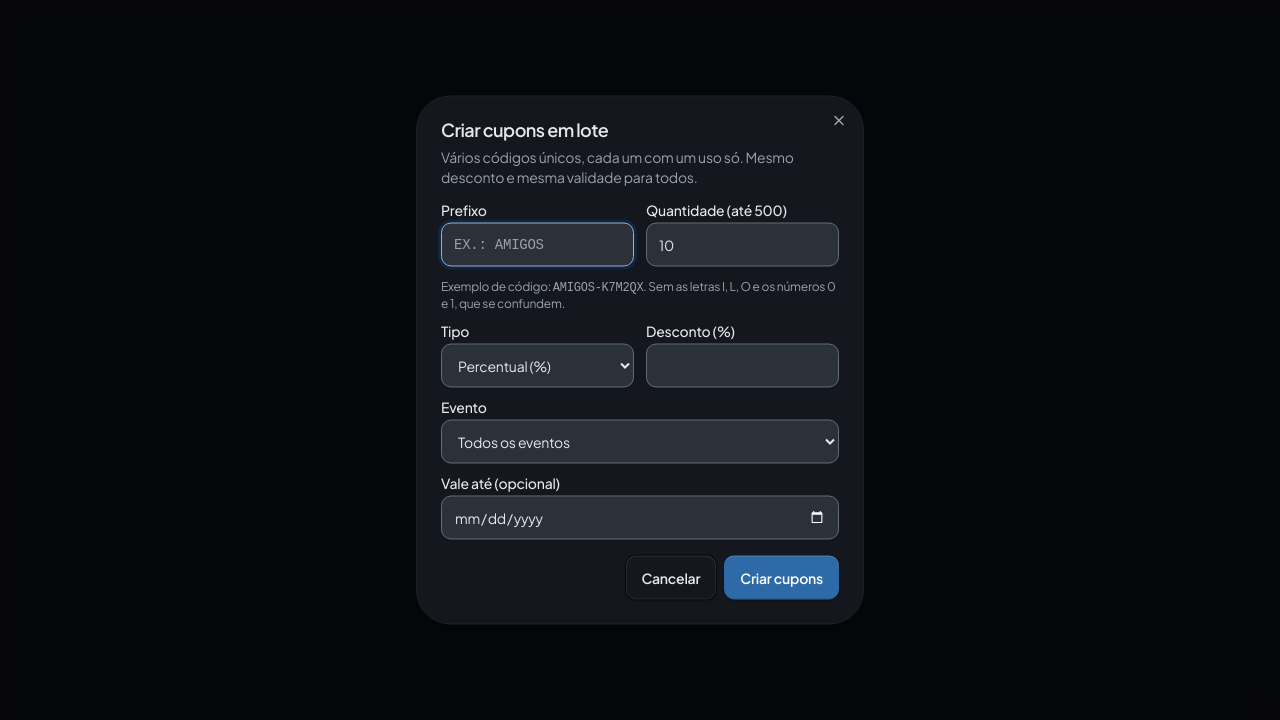
Test case: cupons em lote e CSV (tela) › evento que não é da lista do produtor vai como "todos" (null)
Type "A" into the field labelled "Prefixo" at point(538, 244), box [441,222,634,266]
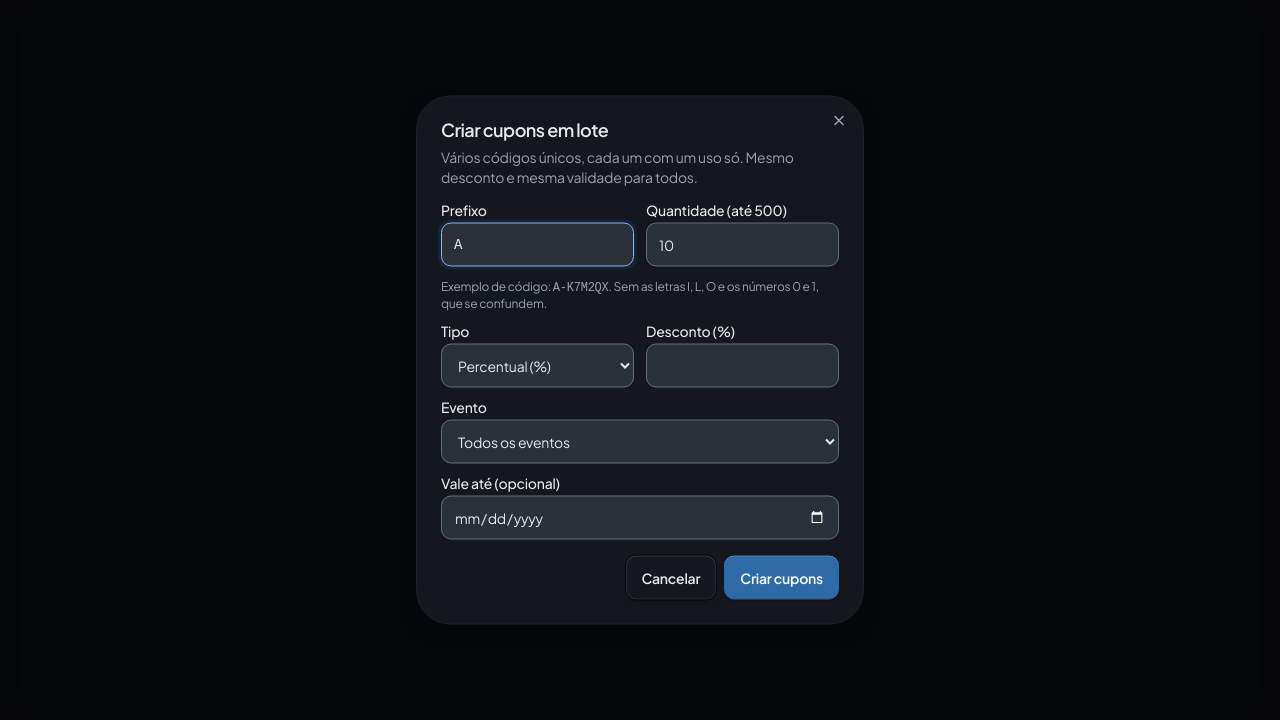
Type "5" into the field labelled "Desconto (%)" at point(742, 366), box [646,344,839,388]
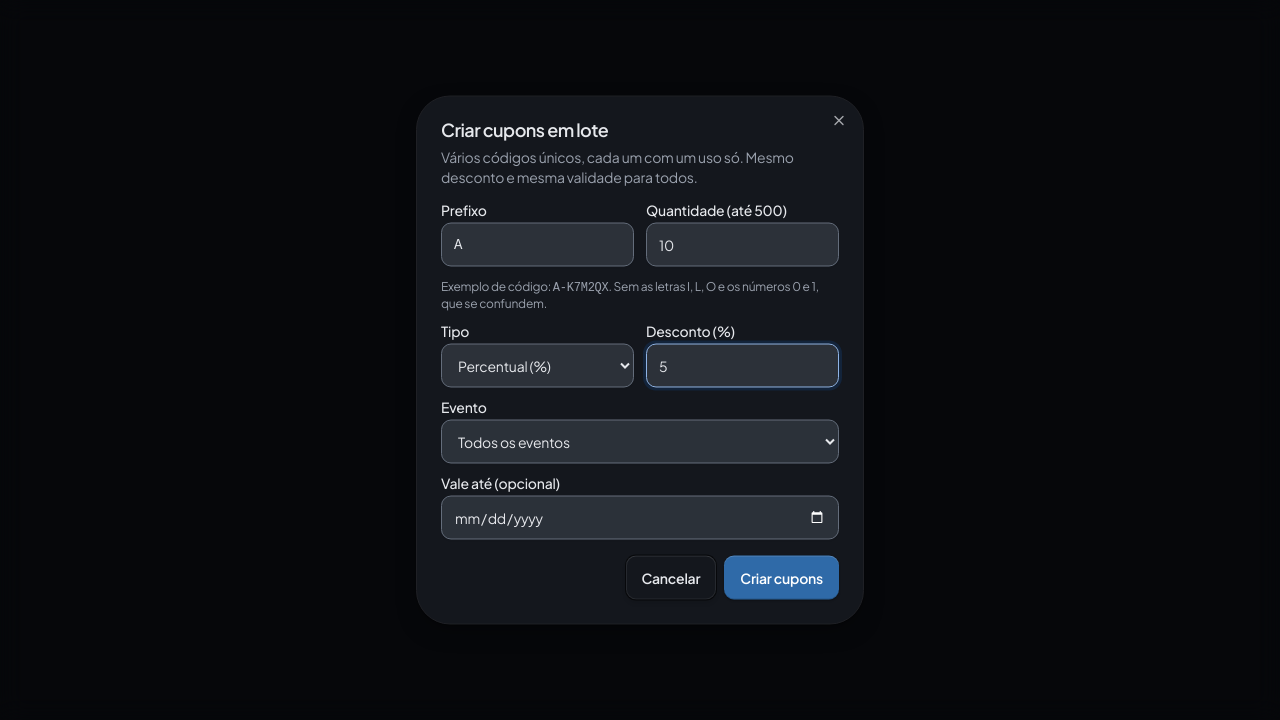
Click the button "Criar cupons" at point(782, 578), box [724,556,839,600]
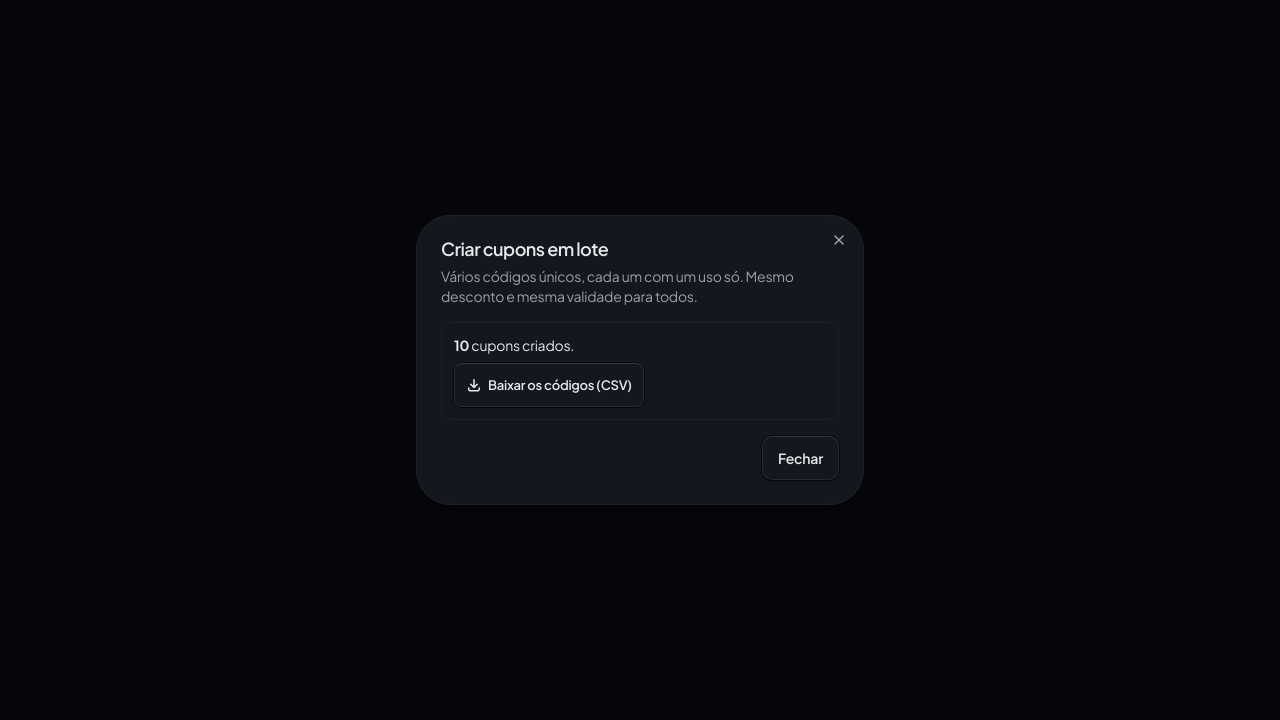
Expected: the message shows "criado", [471,336,570,354]
